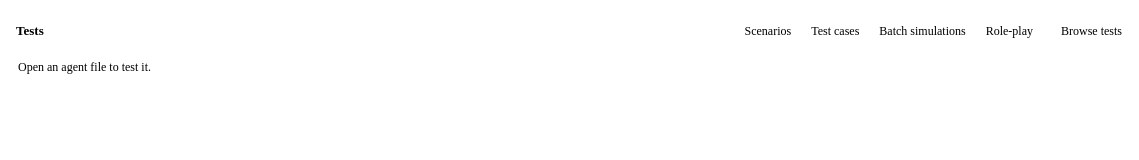
Test case: asks for a file, and keeps the role-play view without one
Check: the text "Open an agent file to test it." is shown, box [18,60,151,74]
Click the button "Role-play". click: (1009, 31)
box: [976,16,1043,46]
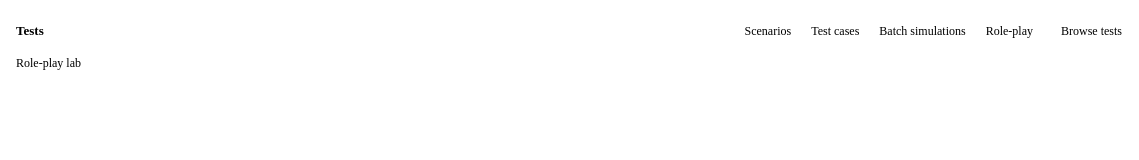
Check: the text "Role-play lab" is shown, box [16,56,81,70]
